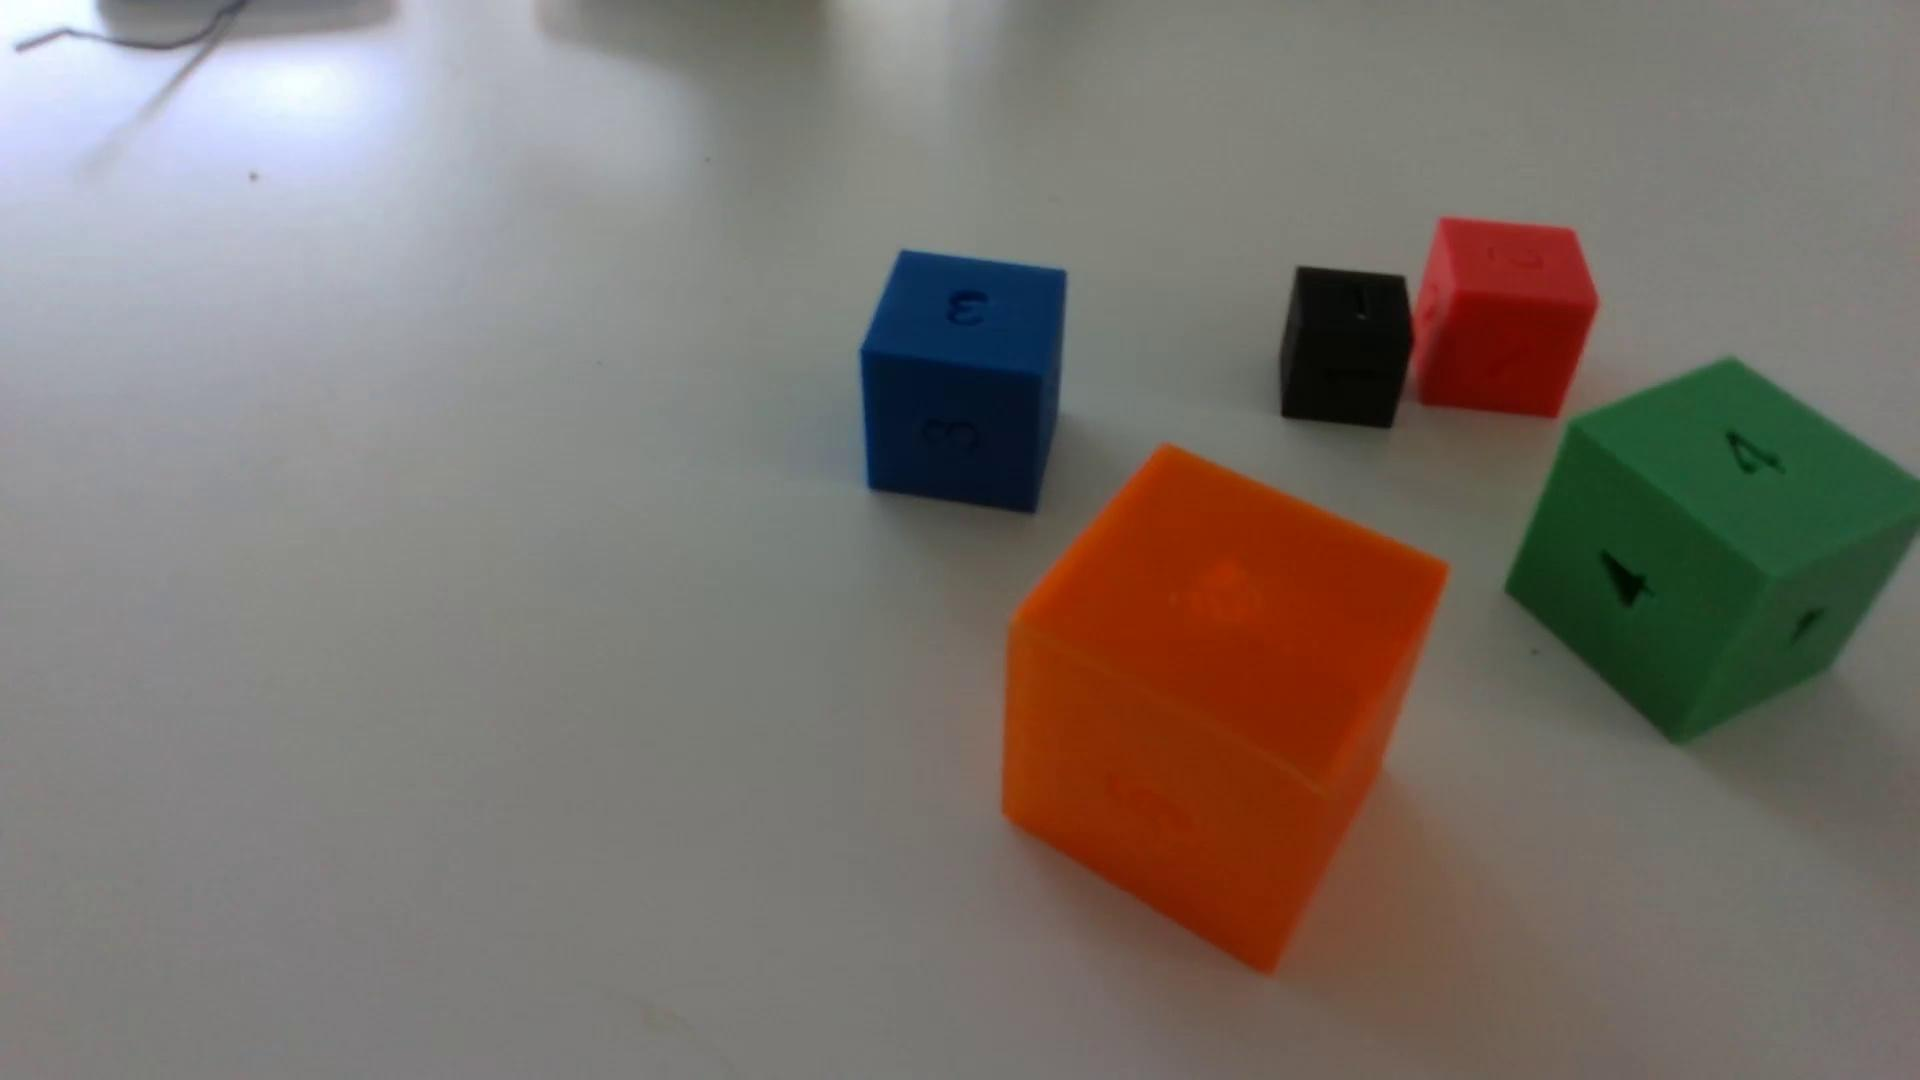black: (1278, 266, 1414, 430)
blue: (860, 251, 1068, 513)
green: (1505, 360, 1920, 744)
orange: (1002, 448, 1447, 972)
red: (1411, 218, 1598, 419)
